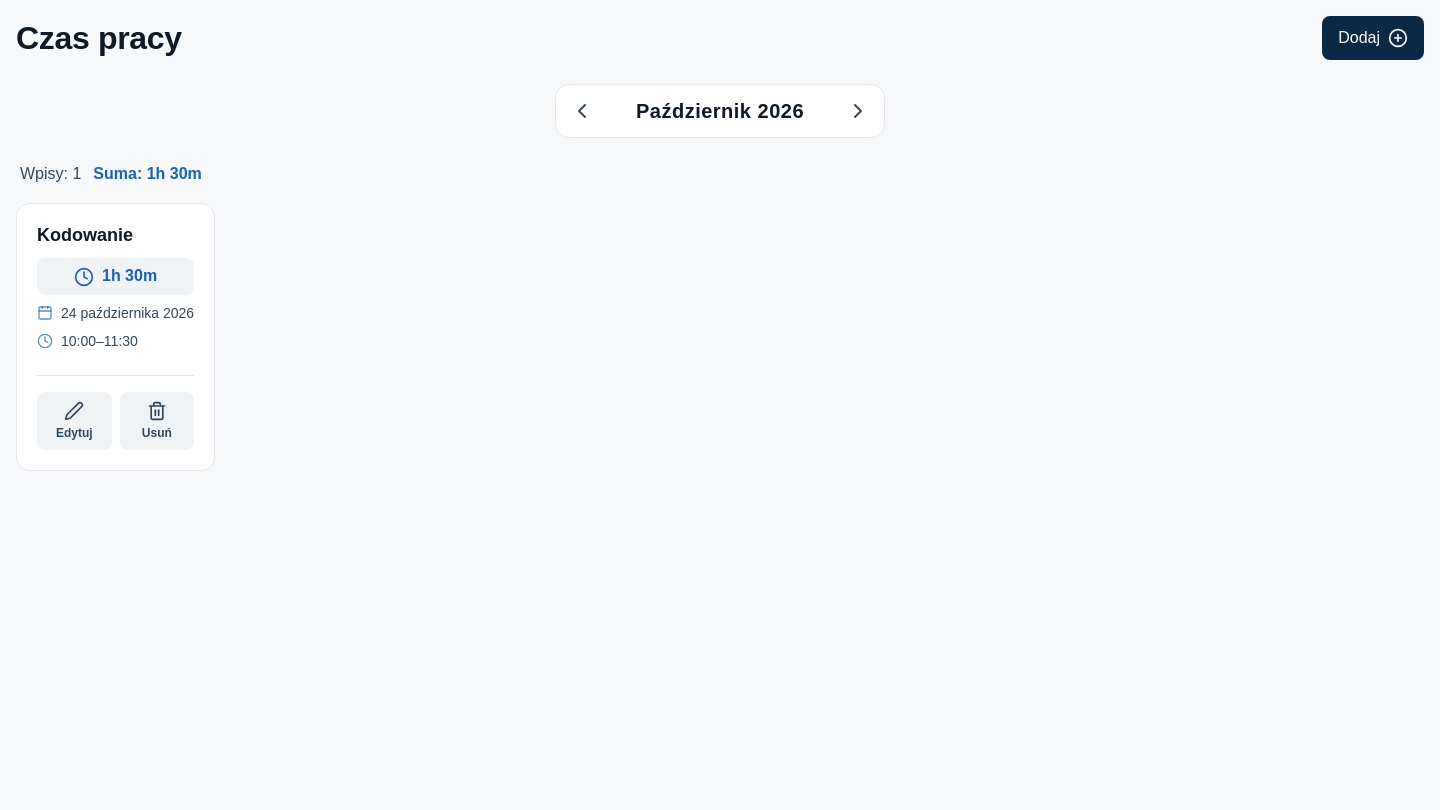
edycja wpisu czasu pracy › otwiera formularz z danymi wpisu
The width and height of the screenshot is (1440, 810).
What coordinates should you click on to do the following:
click the button with aria-label "Edytuj wpis: Kodowanie"
I would click on:
 (74, 421)
Its box is [37, 392, 112, 450].
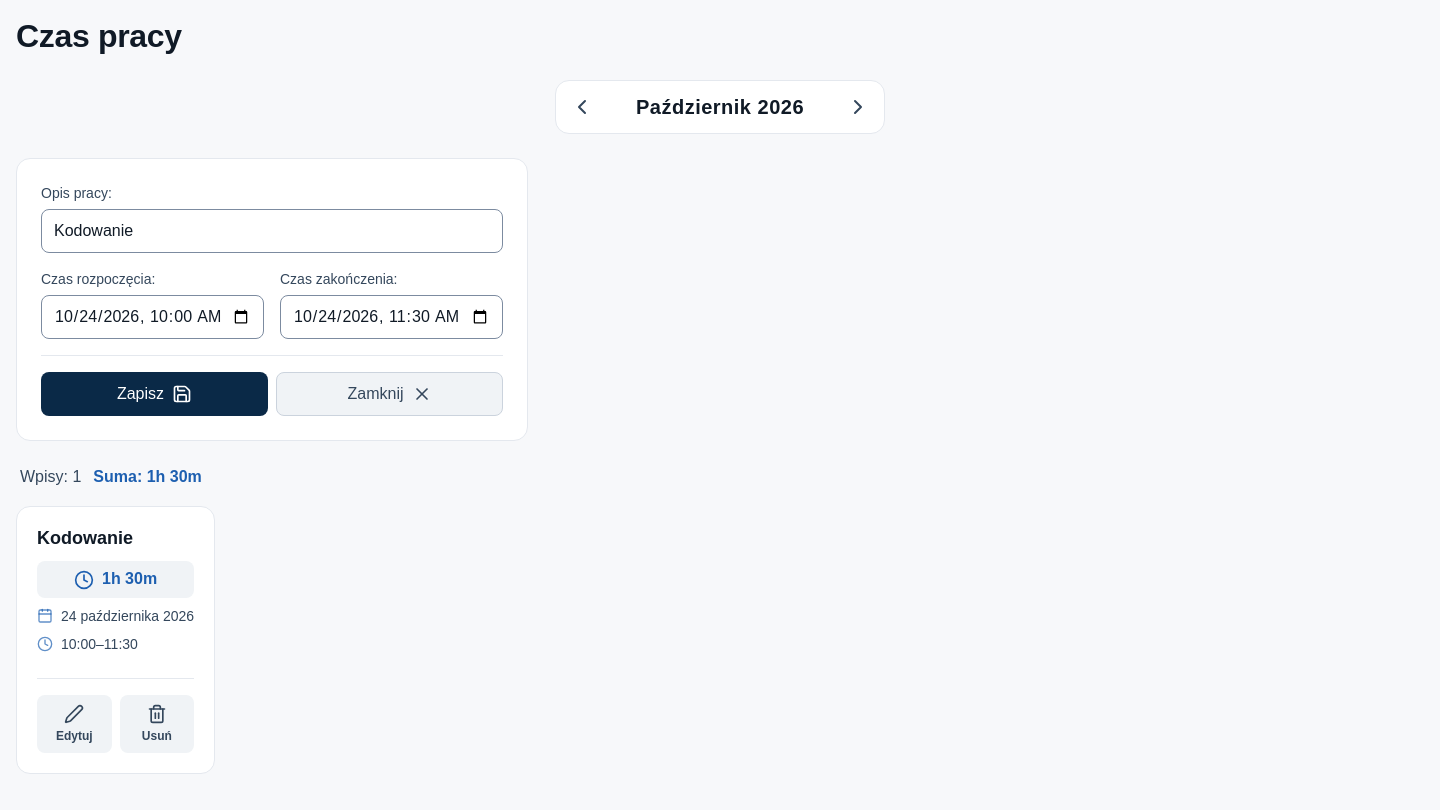
Expected: the form named "Edycja czasu pracy" is shown, [16, 158, 528, 441]
Expected: the field with id "desc" holds "Kodowanie", [41, 209, 503, 253]
Expected: the field with id "time-start" holds "2026-10-24T10:00", [41, 295, 264, 339]
